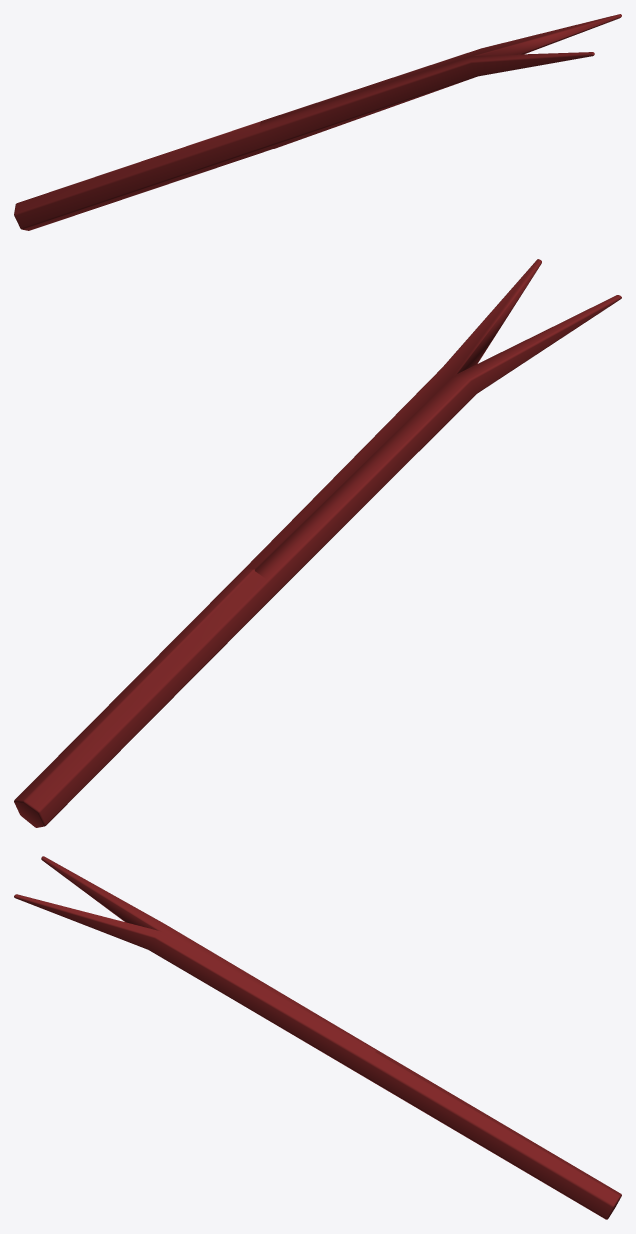
The model's file is serpiente-lengua.glb.
3 views of the same model, one above another, from view 1: azimuth 90°, elevation 25°; view 2: azimuth 150°, elevation 25°; view 3: azimuth 270°, elevation 25° (orthographic). The views are drawn at different scales.
Visible parts, largest first — view 1: Cube; view 2: Cube; view 3: Cube.
Boxes of the visible parts, bbox=[...] form: Cube: bbox=[14, 14, 621, 230]; Cube: bbox=[14, 259, 621, 827]; Cube: bbox=[14, 856, 621, 1219].
Size of the model in its own units: 0.3593 by 0.4493 by 0.9155.
